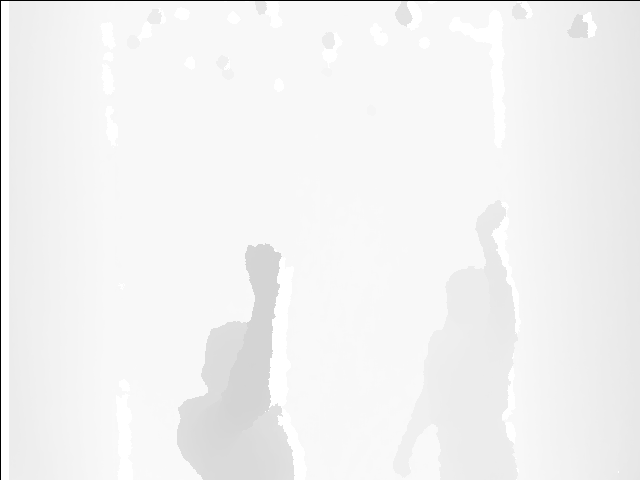hand: (244, 242, 285, 298), (474, 201, 505, 240)
